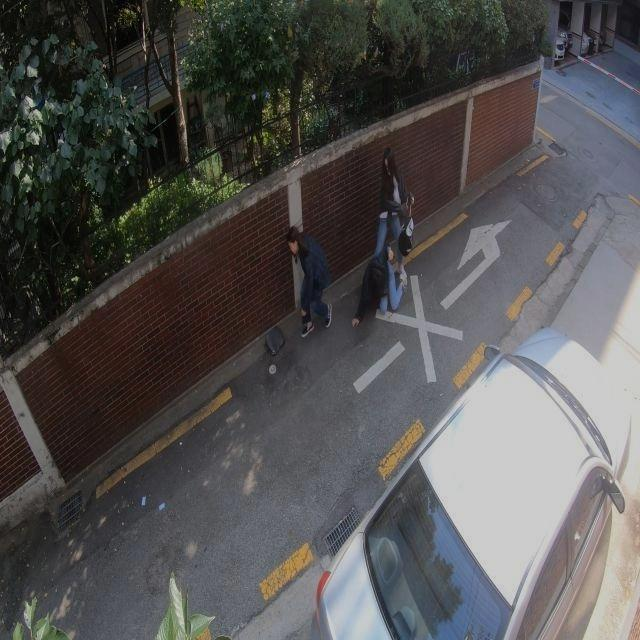fight: (347, 152, 418, 328)
non-fight: (285, 224, 332, 338)
